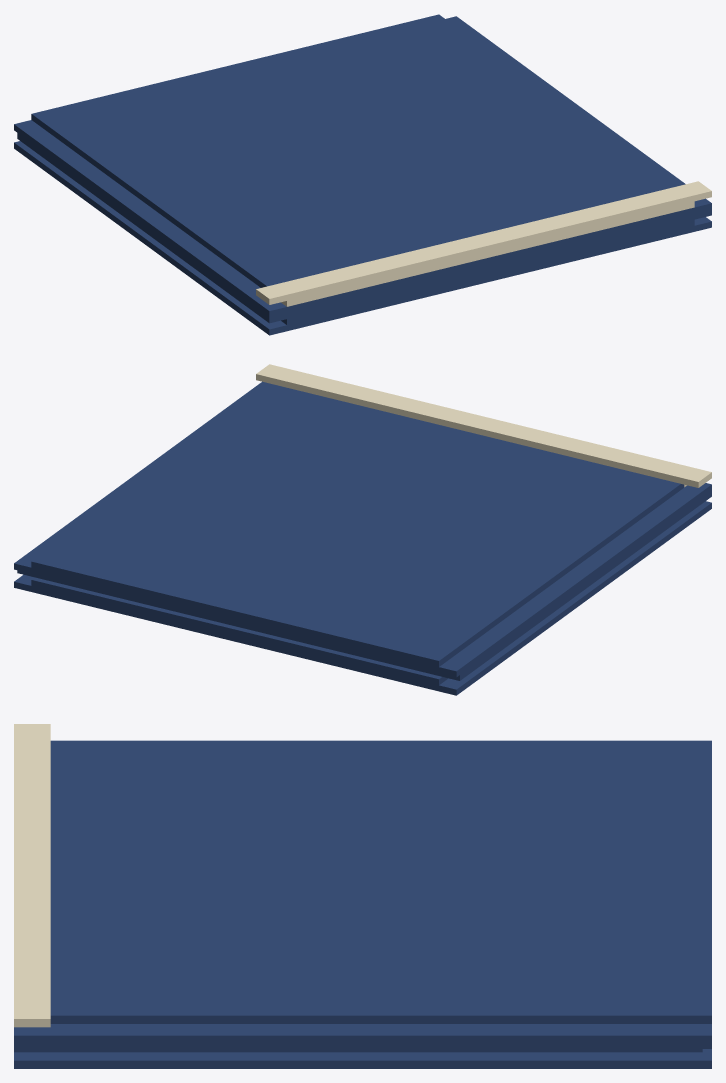
Rendered from sheet_denim.glb.
The picture shows the model from 3 angles, top to bottom: view 1: azimuth 30°, elevation 25°; view 2: azimuth 150°, elevation 25°; view 3: azimuth 270°, elevation 25°; orthographic projection. The views are drawn at different scales.
Visible parts, largest first — view 1: sheet_denim:compound; view 2: sheet_denim:compound; view 3: sheet_denim:compound.
Part boxes in pixels (bbox=[...]): sheet_denim:compound: bbox=[14, 14, 711, 335]; sheet_denim:compound: bbox=[14, 364, 711, 695]; sheet_denim:compound: bbox=[14, 724, 711, 1068].
Size of the model in its own units: 0.152 by 0.012 by 0.152.
